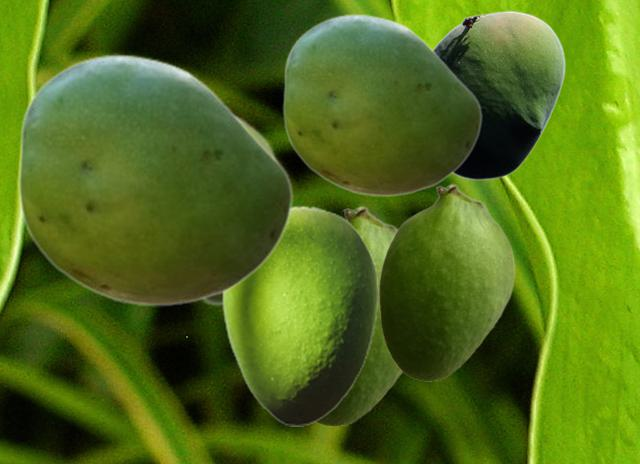green_mango: (17, 53, 292, 306), (282, 13, 481, 196), (221, 205, 378, 425), (378, 183, 514, 380), (433, 10, 565, 179), (315, 205, 402, 425), (201, 111, 281, 306)
